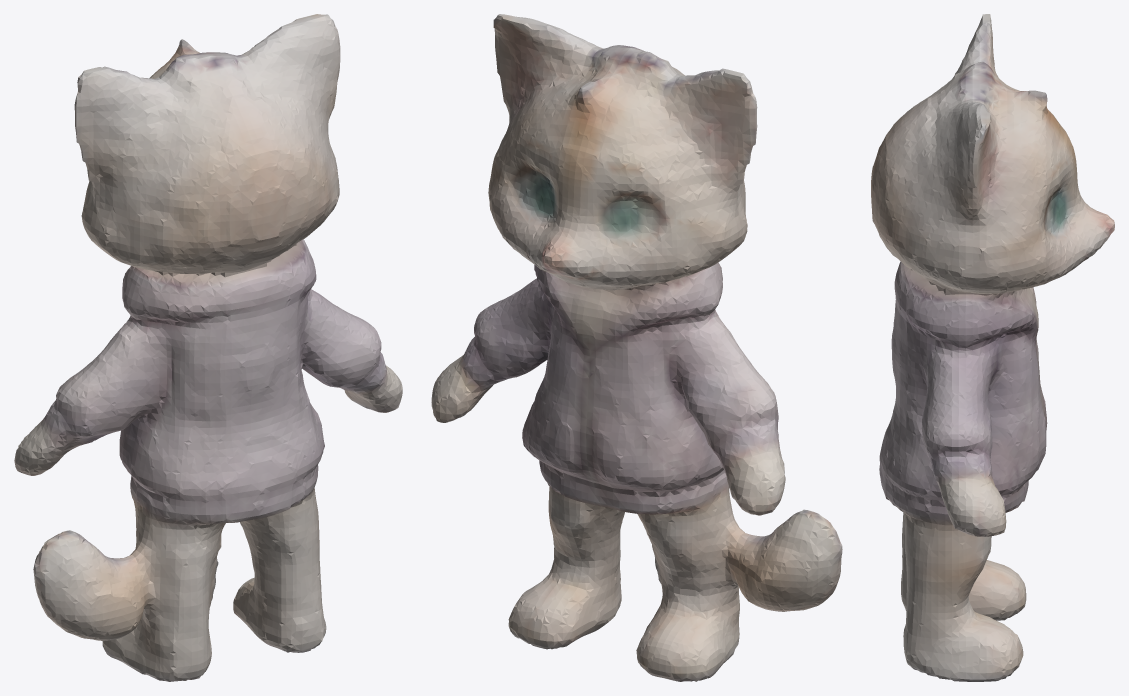
File: milo-instantmesh-blockout.glb
3 renders of one model, left to right at view 1: azimuth 30°, elevation 25°; view 2: azimuth 150°, elevation 25°; view 3: azimuth 270°, elevation 25°, orthographic. The views are drawn at different scales.
Visible parts, largest first — view 1: world; view 2: world; view 3: world.
Part boxes in pixels (x1,y1,x2,y2): world: (14,14,402,681); world: (431,14,842,681); world: (871,14,1114,681).
Size of the model in its own units: 1.33 by 1.99 by 0.7729.
